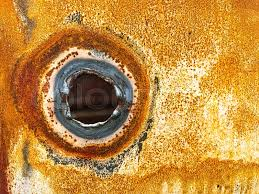rust: (2, 1, 258, 194)
